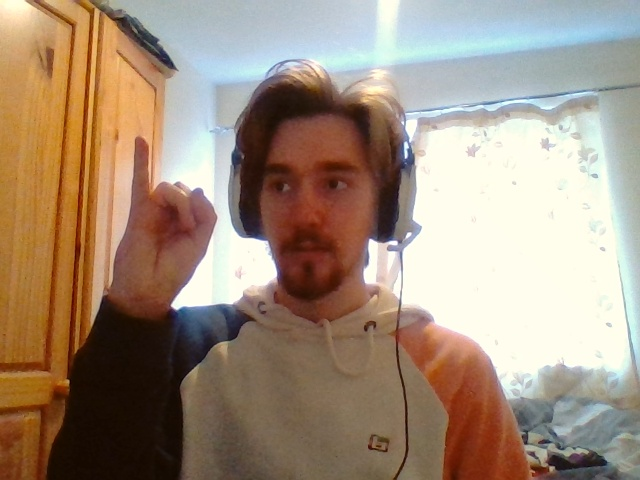bad: (121, 136, 218, 296)
